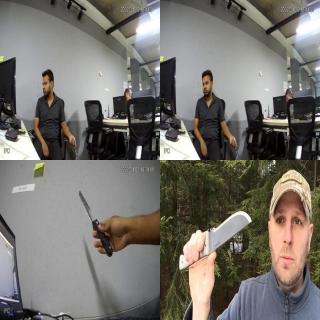knife: (193, 206, 253, 272), (76, 186, 112, 258), (72, 141, 82, 159), (233, 144, 241, 159)
